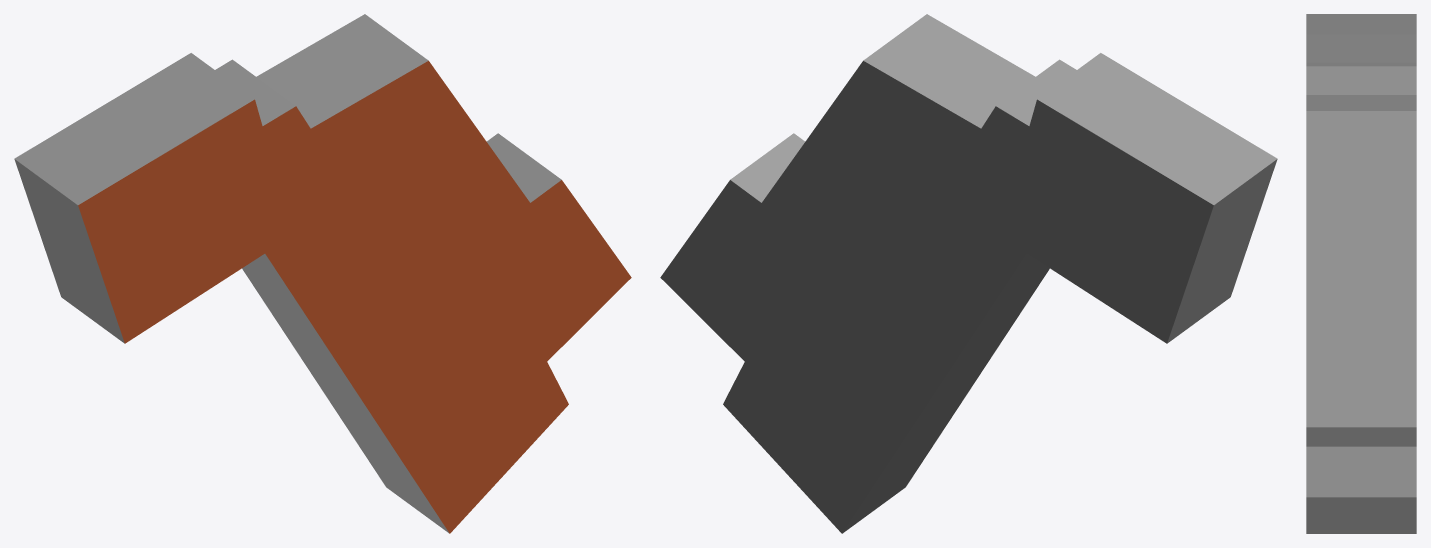
The model's file is construction_2854_assumed_A_Casa_h6m.obj.
The picture shows the model from 3 angles, left to right: view 1: azimuth 30°, elevation 25°; view 2: azimuth 150°, elevation 25°; view 3: azimuth 270°, elevation 25°; orthographic projection. The views are drawn at different scales.
Visible parts, largest first — view 1: construction_2854_assumed_A_Casa; view 2: construction_2854_assumed_A_Casa; view 3: construction_2854_assumed_A_Casa.
Boxes of the visible parts, x1,y1,x2,y2 form: construction_2854_assumed_A_Casa: (14,14,631,533); construction_2854_assumed_A_Casa: (660,14,1277,533); construction_2854_assumed_A_Casa: (1306,14,1416,533).
Bounding box in the file's own units: 30.1 × 25.05 × 6.
